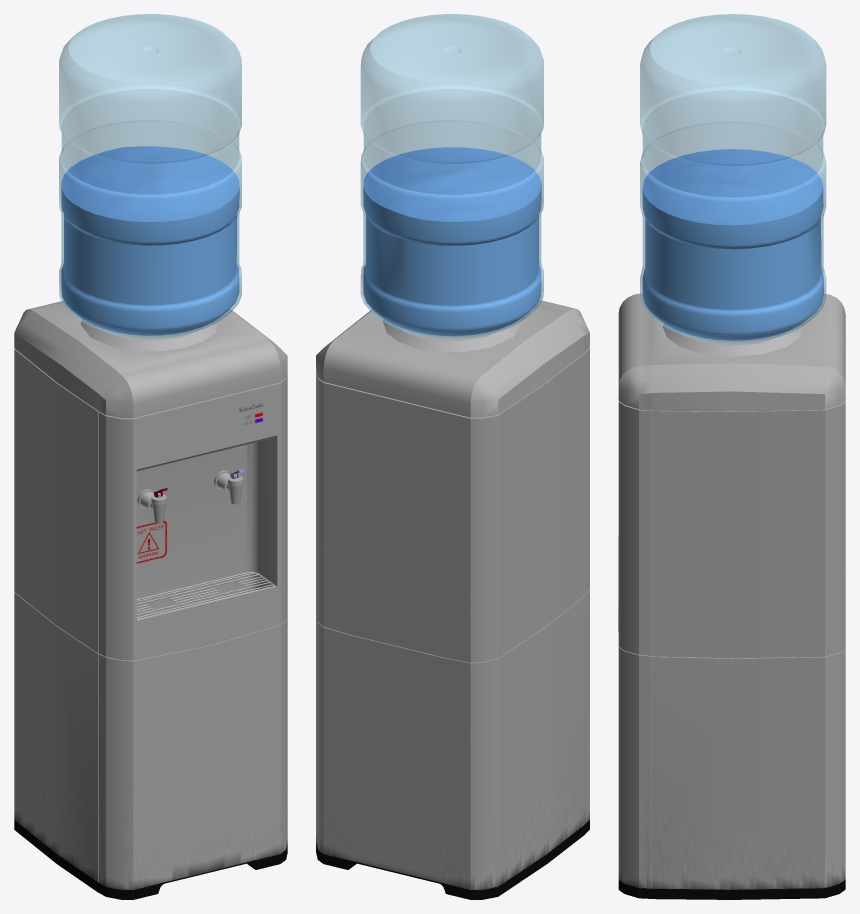
Rendered from udlWaterCooler.glb.
3 views of the same model, side by side, from view 1: azimuth 30°, elevation 25°; view 2: azimuth 150°, elevation 25°; view 3: azimuth 270°, elevation 25° (orthographic).
Parts seen in each view (by area): view 1: WaterCooler, Waterbottle, Water; view 2: WaterCooler, Waterbottle, Water; view 3: WaterCooler, Waterbottle, Water.
Part boxes in pixels (x1,y1,x2,y2): WaterCooler: (14,301,287,899); Waterbottle: (59,14,241,337); Water: (61,146,239,335); WaterCooler: (316,300,589,899); Waterbottle: (360,14,543,338); Water: (363,147,541,336); WaterCooler: (618,293,845,899); Waterbottle: (640,14,826,343); Water: (642,149,823,340).
Size of the model in its own units: 0.3205 by 1.29 by 0.33.
3 materials, 1 textured.
